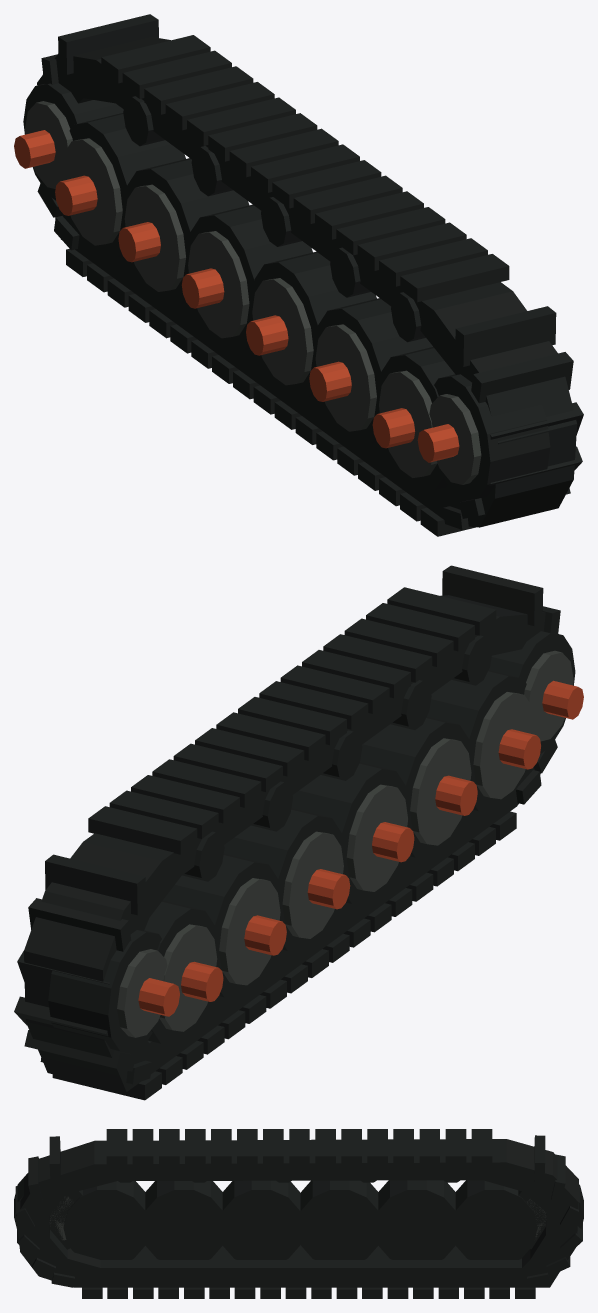
The model's file is Bastion_MT12_LeftTrack.obj.
The picture shows the model from 3 angles, top to bottom: view 1: azimuth 30°, elevation 25°; view 2: azimuth 150°, elevation 25°; view 3: azimuth 270°, elevation 25°; orthographic projection. The views are drawn at different scales.
Visible parts, largest first — view 1: Bastion_MT12_LeftTrack; view 2: Bastion_MT12_LeftTrack; view 3: Bastion_MT12_LeftTrack.
Part boxes in pixels (box(x1,y1,x2,y2)): Bastion_MT12_LeftTrack: box(14, 14, 583, 536); Bastion_MT12_LeftTrack: box(14, 565, 583, 1100); Bastion_MT12_LeftTrack: box(14, 1129, 583, 1298).
Size of the model in its own units: 0.875 by 1.52 by 5.53.
Materials: 1 (1 with a texture image).
